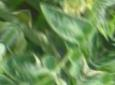Tomato mold leaf: (32, 0, 97, 50), (0, 37, 63, 85)
